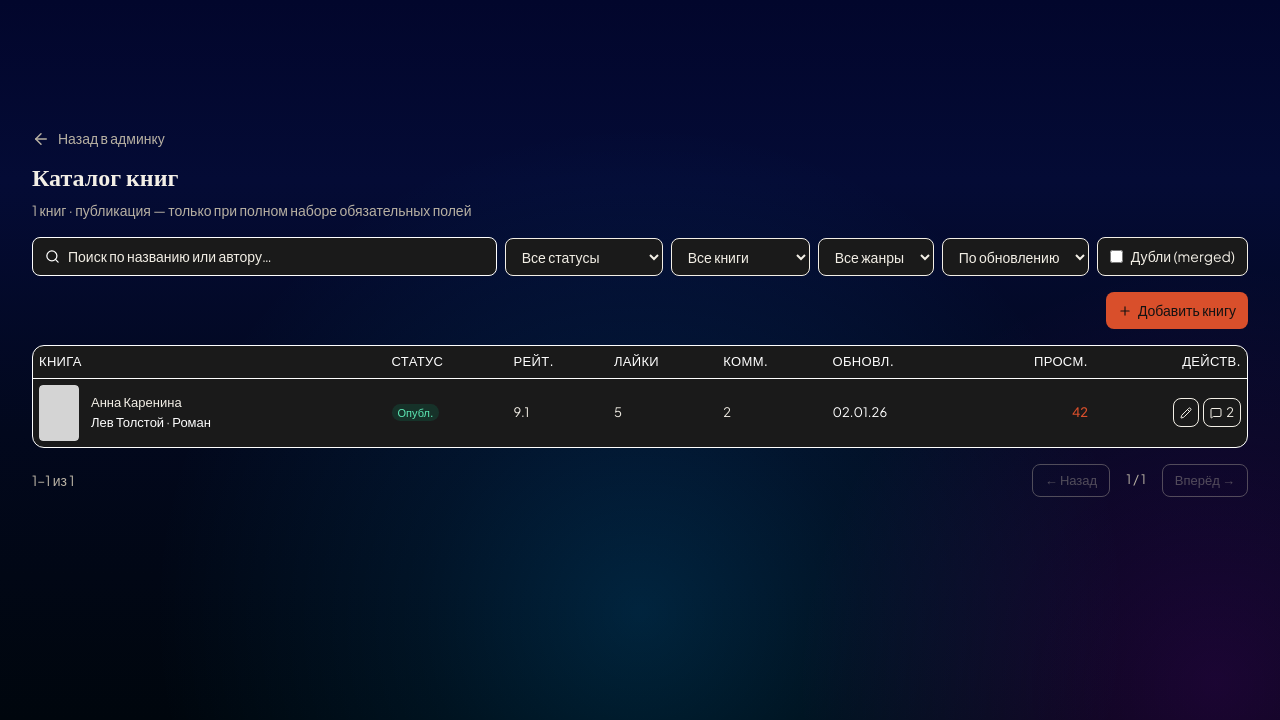
Scenario: AdminBooksPage (Фаза 7) › открывает модалку редактирования по кнопке
This screenshot has width=1280, height=720.
Expected: the button "Анна Каренина" is shown, [91,393,211,413]
Click the button named "Редактировать".
click(1186, 413)  # box [1173,398,1199,427]
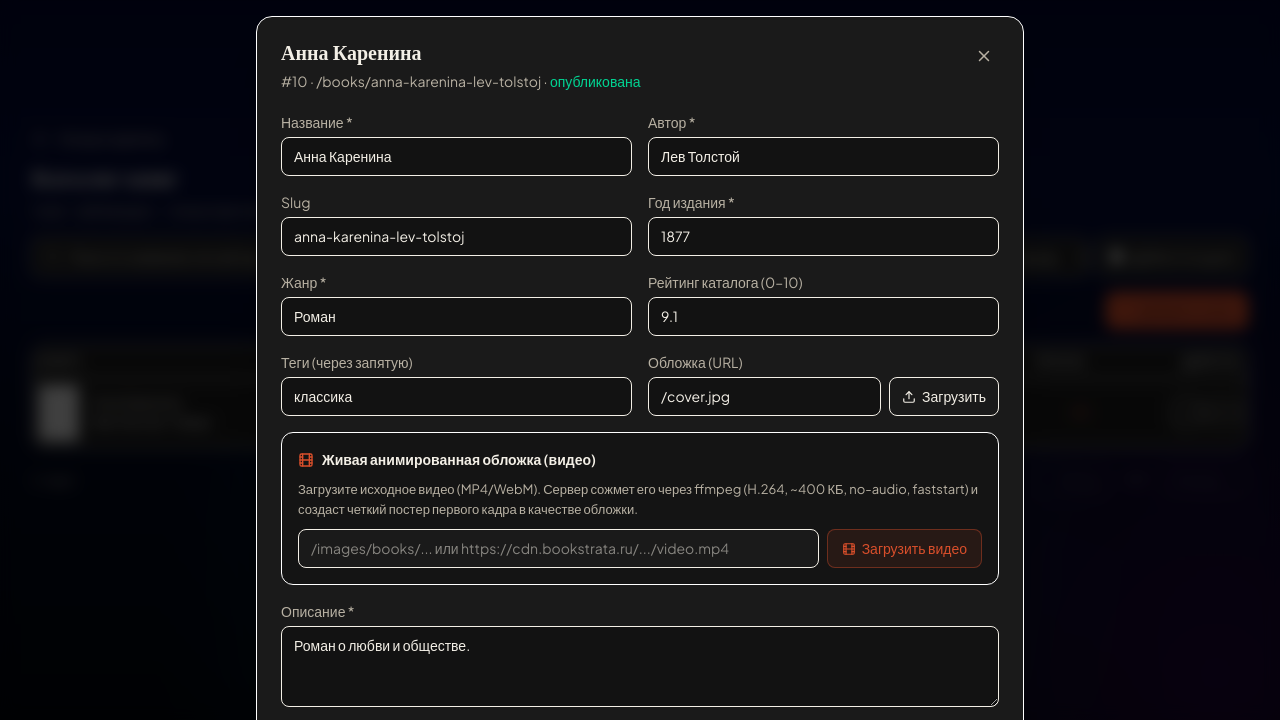
Expected: the number field showing "1877" is shown, [648,217,999,256]
